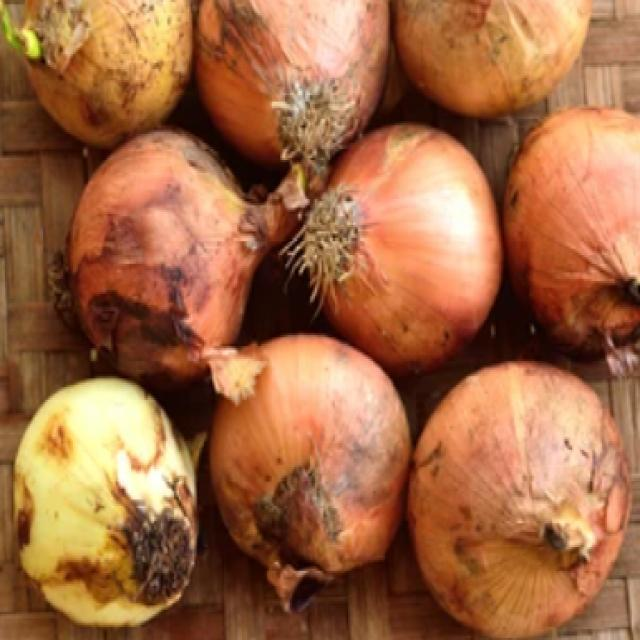rotten: (108, 452, 194, 601), (96, 220, 196, 340), (250, 454, 350, 567), (207, 5, 285, 70)
sprouting: (1, 19, 56, 67)
